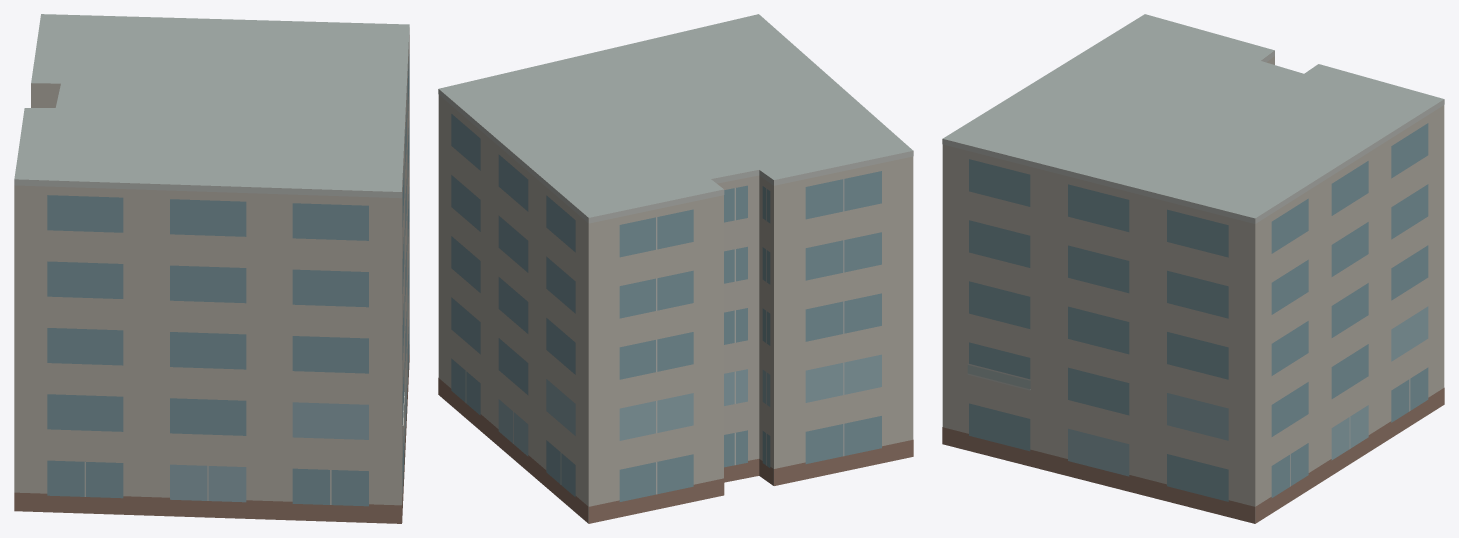
File: survey-upis-32779238.glb
3 views of the same model, side by side, from view 1: azimuth 30°, elevation 25°; view 2: azimuth 150°, elevation 25°; view 3: azimuth 270°, elevation 25° (orthographic). The views are drawn at different scales.
Visible parts, largest first — view 1: survey-upis-32779238.tmp; view 2: survey-upis-32779238.tmp; view 3: survey-upis-32779238.tmp.
Boxes of the visible parts, x1,y1,x2,y2 form: survey-upis-32779238.tmp: (14, 14, 409, 523); survey-upis-32779238.tmp: (438, 14, 913, 523); survey-upis-32779238.tmp: (942, 14, 1444, 523).
Bounding box in the file's own units: 18.89 × 13.15 × 19.6.
